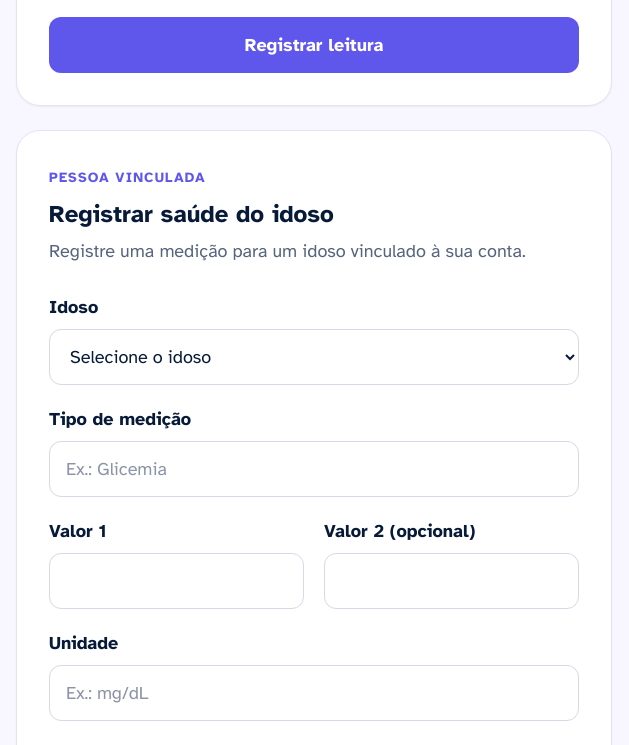
Saude — acessibilidade do registro do idoso › exibe erro com role alert
(page scrolled)
Select "Idoso Teste Cinco (c***@teste.com)" in the dropdown labelled "Idoso": (314, 357) [49,329,579,385]
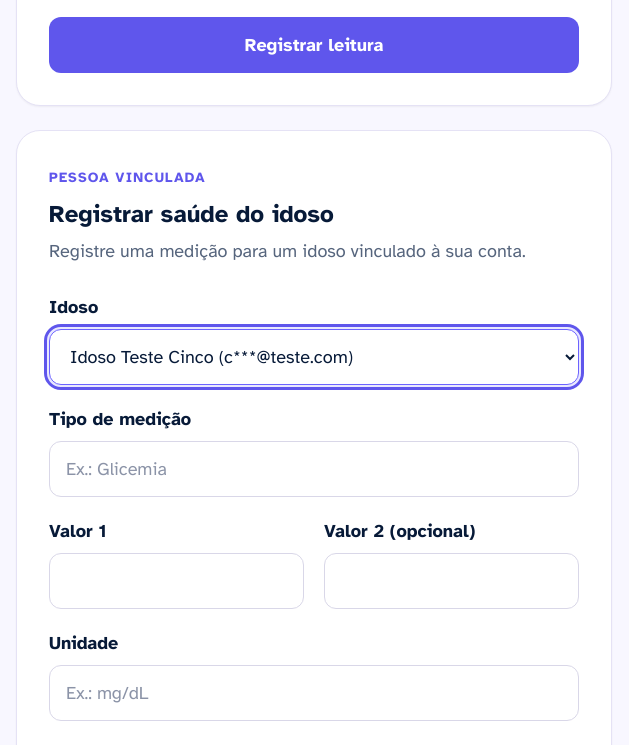
In the field labelled "Tipo de medição": (314, 469) [49,441,579,497], type "glicemia"
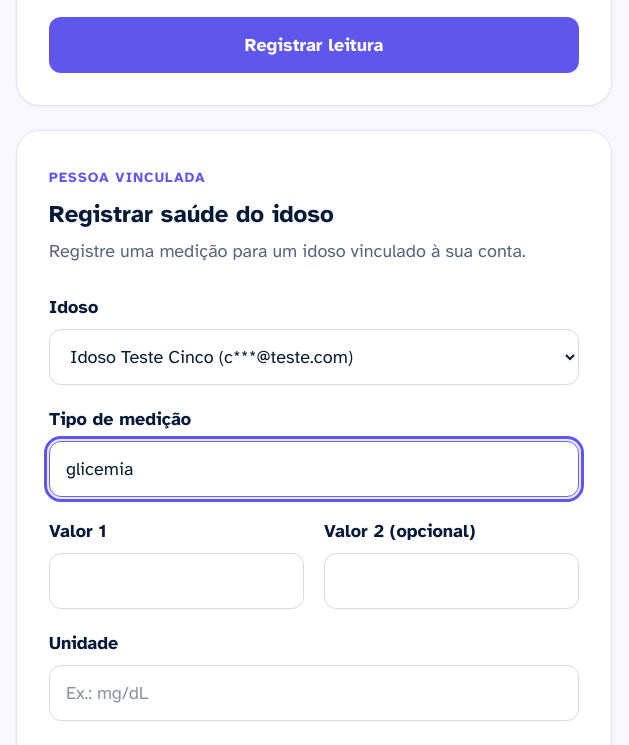
In the number field labelled "Valor 1": (176, 581) [49,553,304,609], type "95"
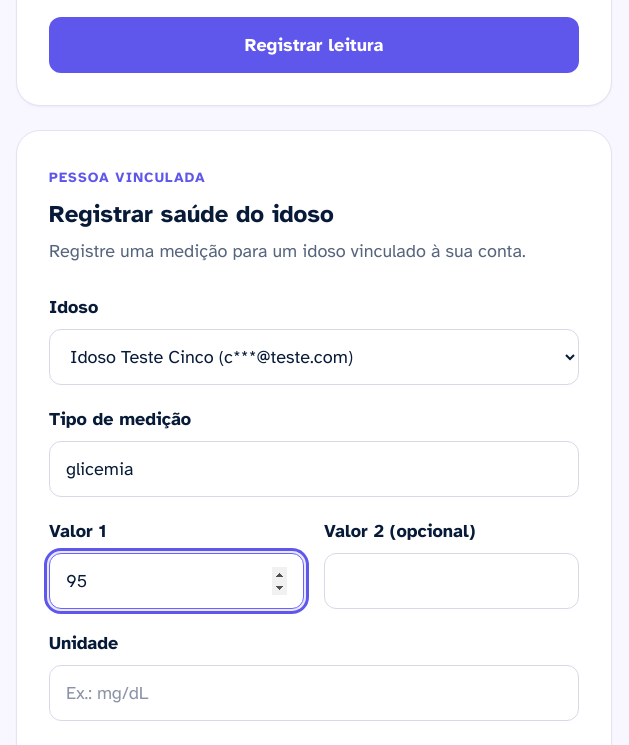
In the field labelled "Unidade": (314, 693) [49,665,579,721], type "mg/dL"
(page scrolled)
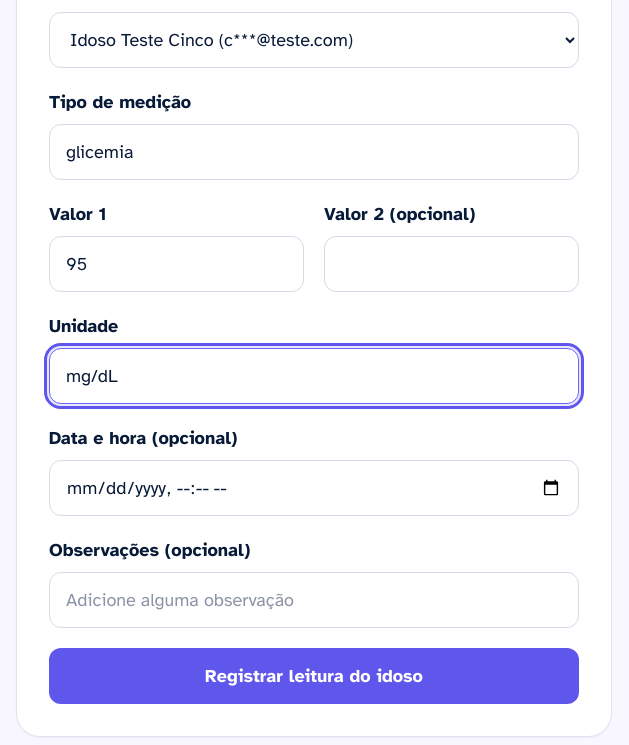
Click the button "Registrar leitura do idoso": (314, 676) [49,648,579,704]
(page scrolled)
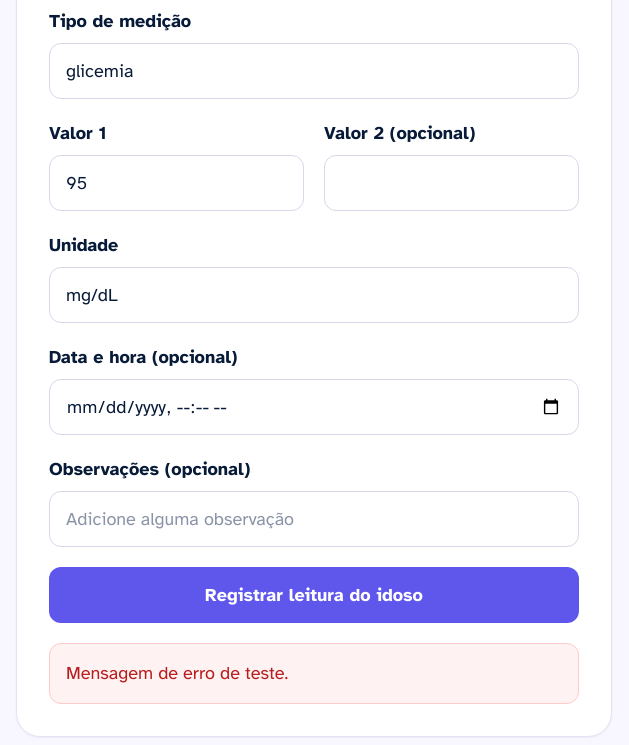
Check: the message reads "Mensagem de erro de teste.", box [66,662,288,684]
